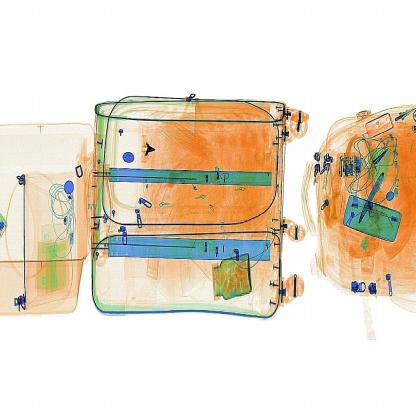gun: (126, 129, 169, 177)
